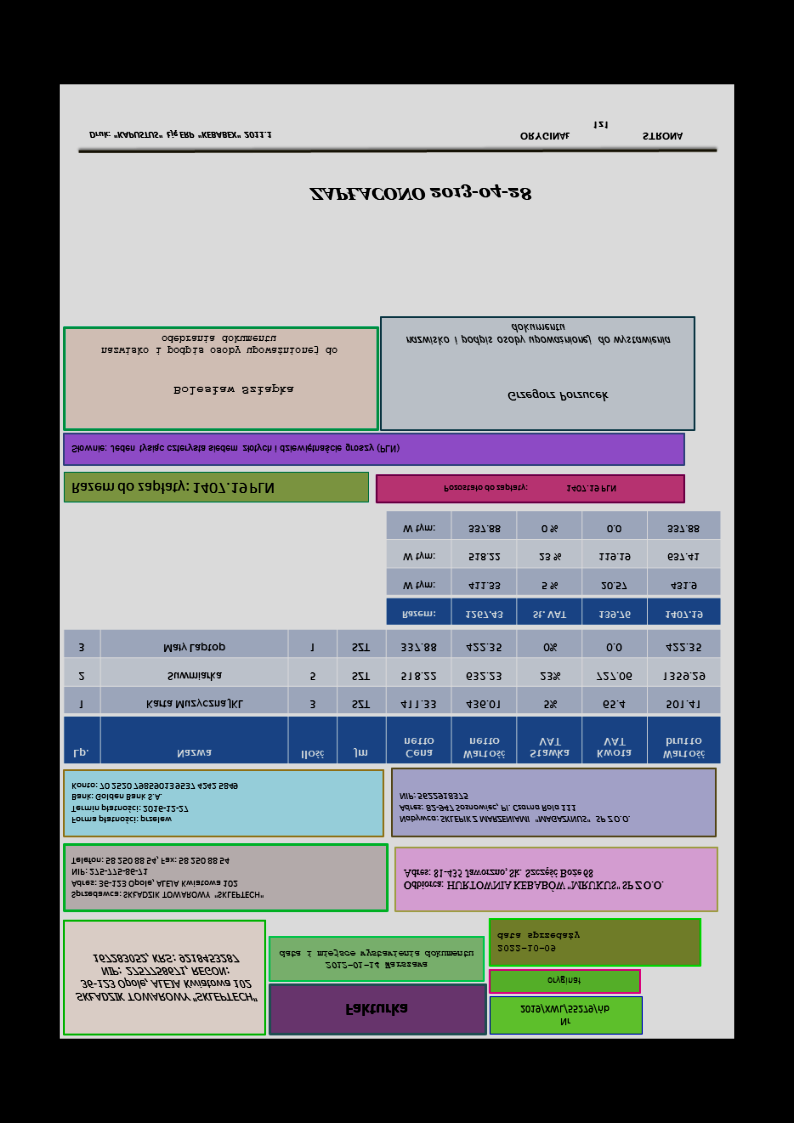Table: (62, 627, 721, 766), (385, 509, 723, 628)
TextBox: (73, 952, 260, 1005), (69, 854, 266, 903), (397, 789, 632, 826), (68, 780, 240, 828), (400, 866, 666, 895), (404, 320, 672, 348), (98, 334, 340, 358), (306, 180, 534, 205), (69, 442, 401, 457), (277, 947, 476, 972), (517, 117, 687, 145), (68, 479, 275, 498), (87, 128, 274, 143), (440, 481, 619, 496), (518, 1001, 610, 1030), (494, 928, 582, 955), (170, 381, 294, 400), (505, 389, 610, 405), (342, 1001, 410, 1019), (545, 974, 583, 987)
